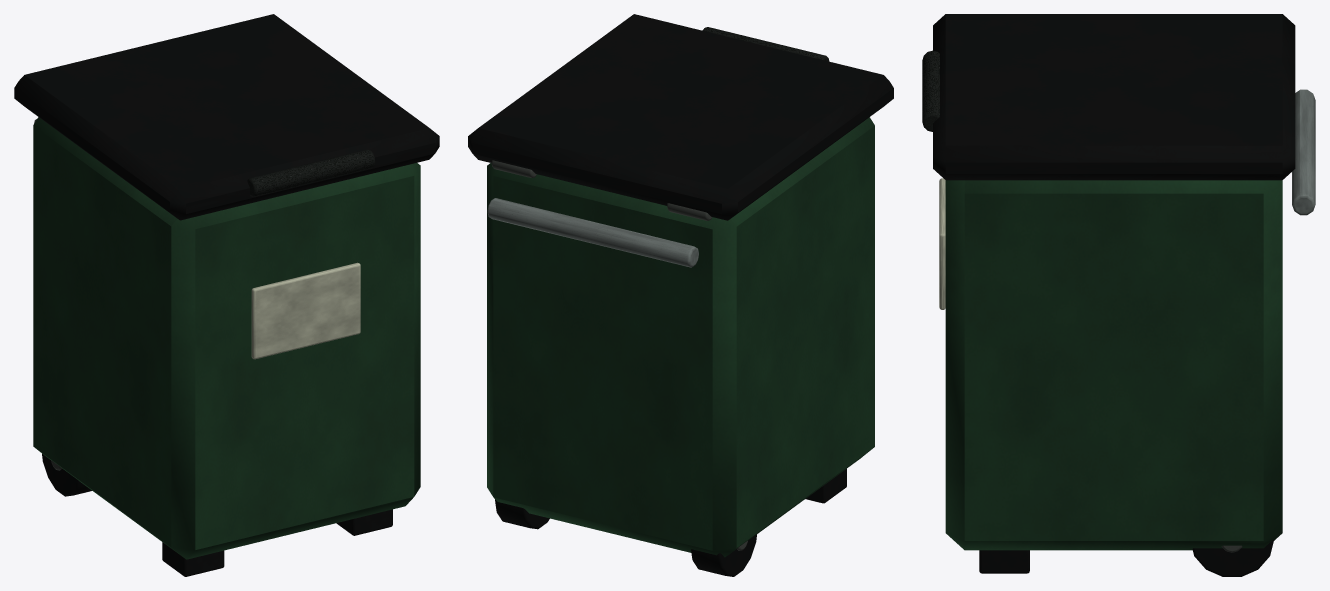
Rendered from level_camp_refuse_bin_refined.glb.
3 renders of one model, left to right at view 1: azimuth 30°, elevation 25°; view 2: azimuth 150°, elevation 25°; view 3: azimuth 270°, elevation 25°, orthographic. The views are drawn at different scales.
Visible parts, largest first — view 1: level_camp_refuse_bin_refined; view 2: level_camp_refuse_bin_refined; view 3: level_camp_refuse_bin_refined.
Boxes of the visible parts, <box> form: level_camp_refuse_bin_refined: <box>14,14,439,576</box>; level_camp_refuse_bin_refined: <box>468,14,893,576</box>; level_camp_refuse_bin_refined: <box>922,14,1315,576</box>.
Bounding box in the file's own units: 0.8 × 1.15 × 0.933.
6 materials, 6 textured.
